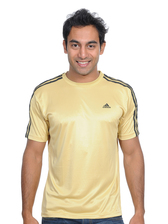clothoes: (23, 72, 141, 220)
